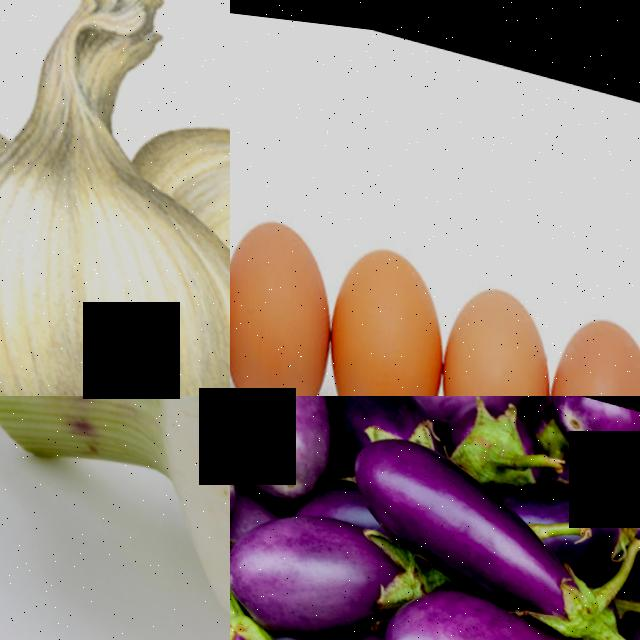egg_: (293, 220, 460, 396), (230, 191, 347, 396), (409, 257, 565, 396), (514, 283, 640, 396)
eggplant: (328, 416, 602, 619), (230, 481, 402, 640), (230, 396, 347, 500)
garlic: (0, 10, 202, 396), (78, 396, 230, 640)
